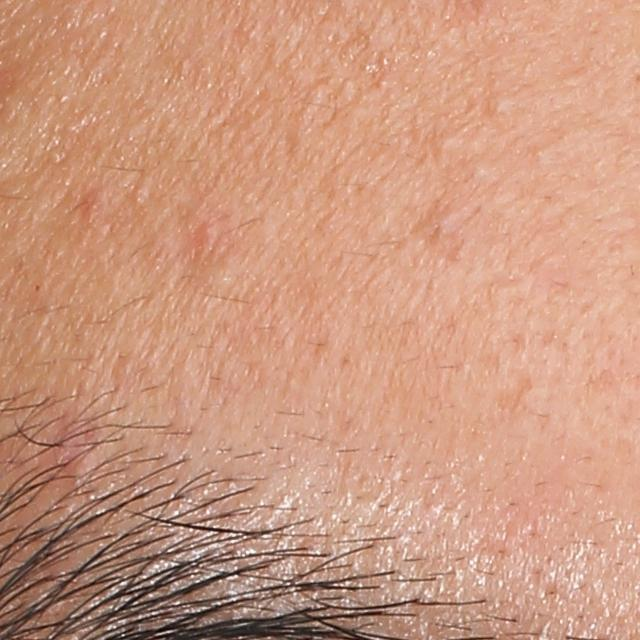comedo: (485, 87, 512, 116), (433, 210, 459, 237), (430, 131, 458, 155), (127, 184, 151, 203), (530, 146, 551, 163)
